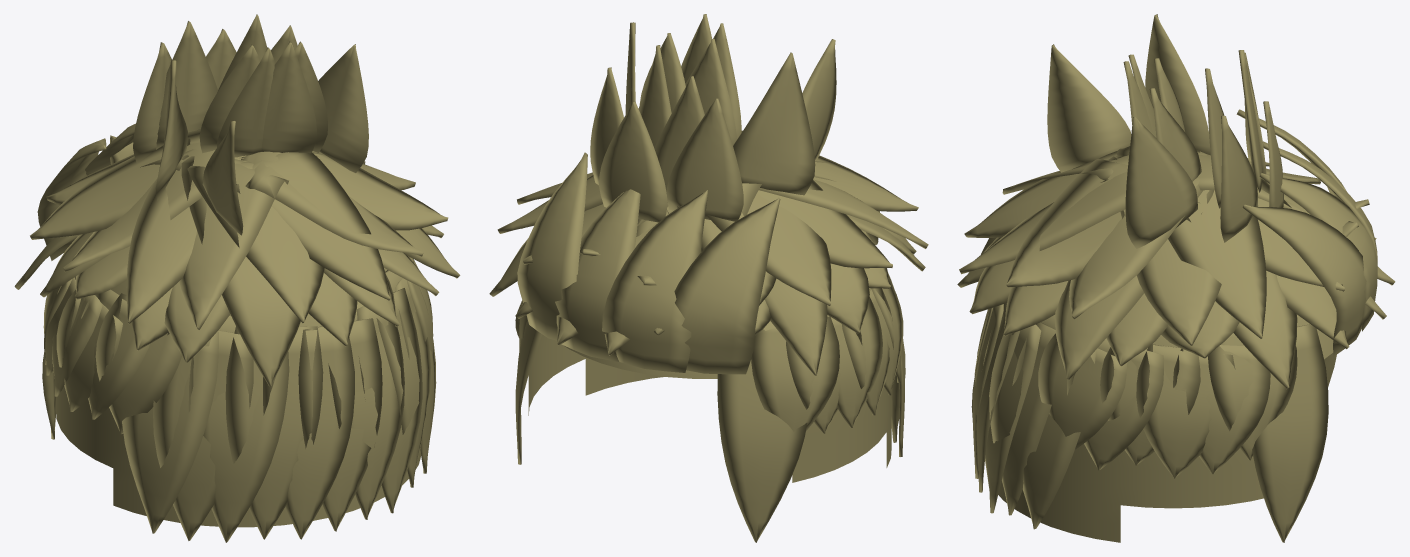
The model's file is archon_hair.fbx.
3 views of the same model, side by side, from view 1: azimuth 30°, elevation 25°; view 2: azimuth 150°, elevation 25°; view 3: azimuth 270°, elevation 25° (orthographic).
Parts seen in each view (by area): view 1: ArchonHair; view 2: ArchonHair; view 3: ArchonHair.
Boxes of the visible parts, bbox=[...] form: ArchonHair: bbox=[14, 14, 460, 542]; ArchonHair: bbox=[489, 14, 928, 542]; ArchonHair: bbox=[957, 14, 1395, 542].
Bounding box in the file's own units: 160 × 180 × 164.
